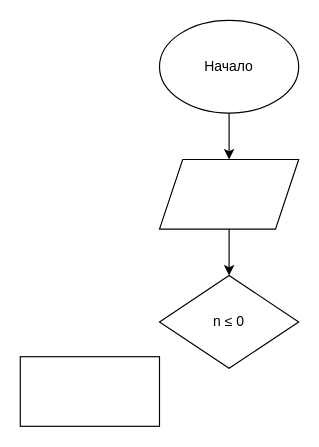
Image size: 319x447. Some labels were removed from this diagram. Each missing label, with the centre of its shape:
"sum = 0, count = 0" goes at (x=89, y=391).
"Ввод n" goes at (x=228, y=193).
